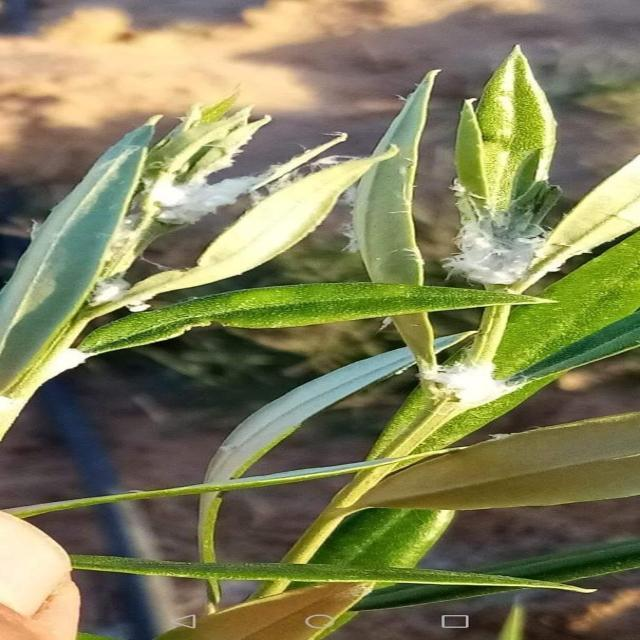Psyllid: (73, 110, 397, 330), (438, 179, 559, 287), (0, 348, 97, 442), (418, 358, 567, 414), (433, 336, 473, 356)
